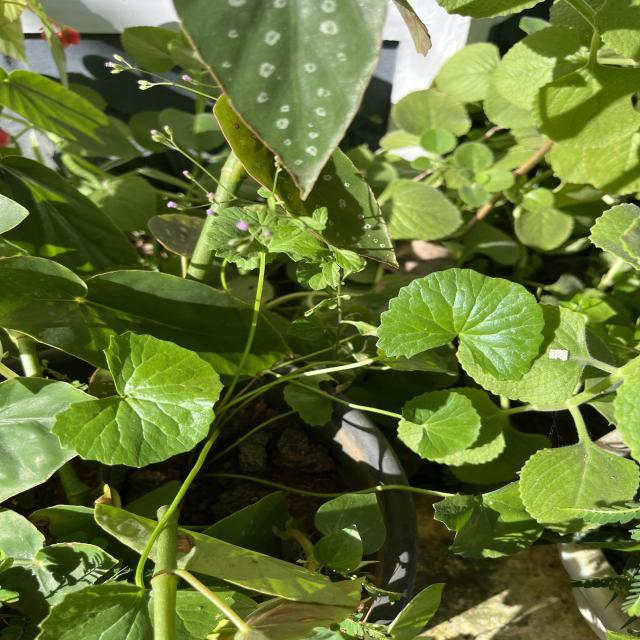Centella asiatica: (48, 328, 226, 470), (373, 266, 548, 384)
